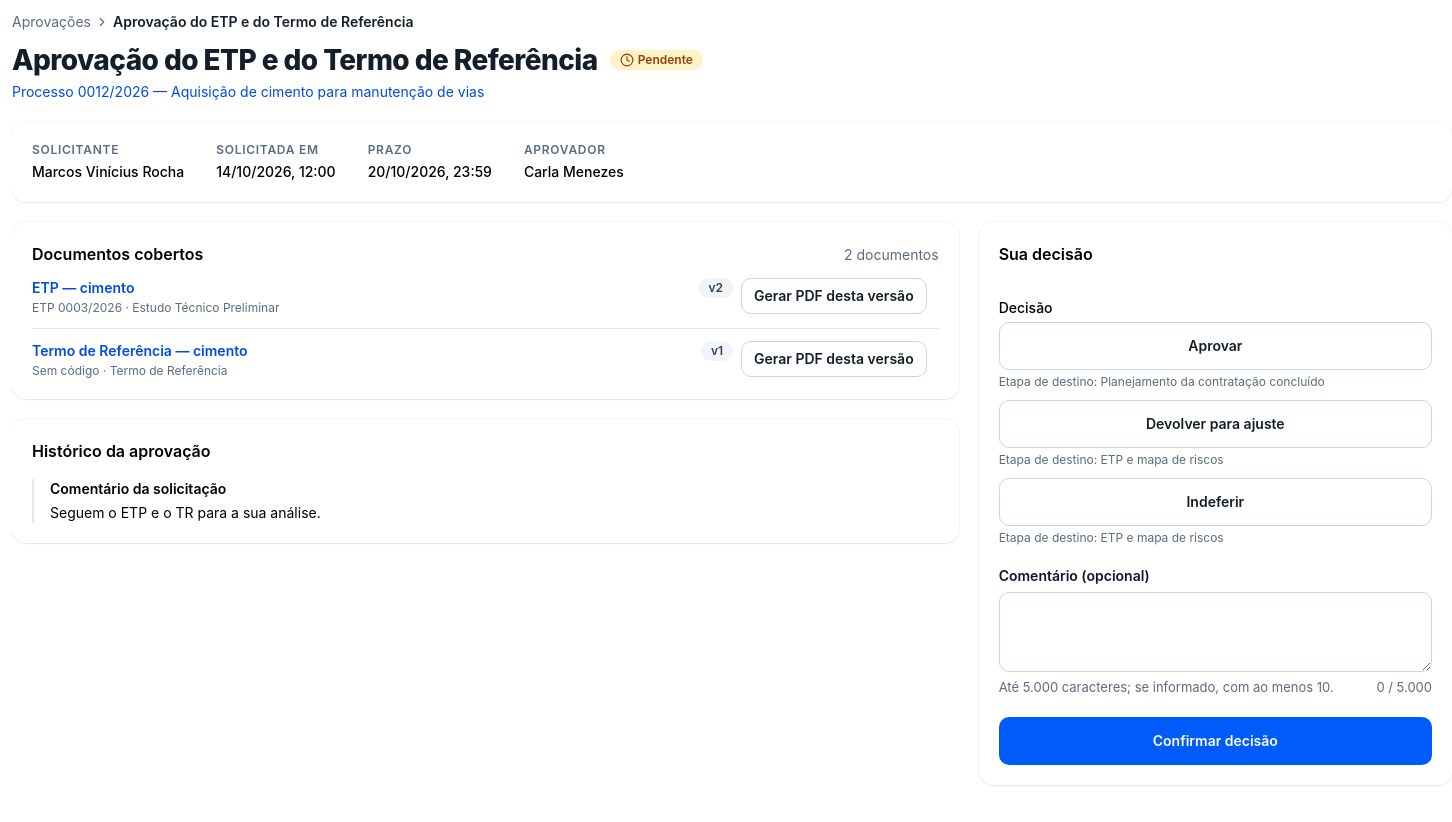
Test case: SCR-015 · Detalhe da aprovação (US-052) › [Sucesso] aprovar: envia o APV-03 com If-Match e Idempotency-Key, avisa, invalida as consultas e volta ao processo
Click the button "Aprovar".
click(1215, 346)  # box [999,322,1432,370]
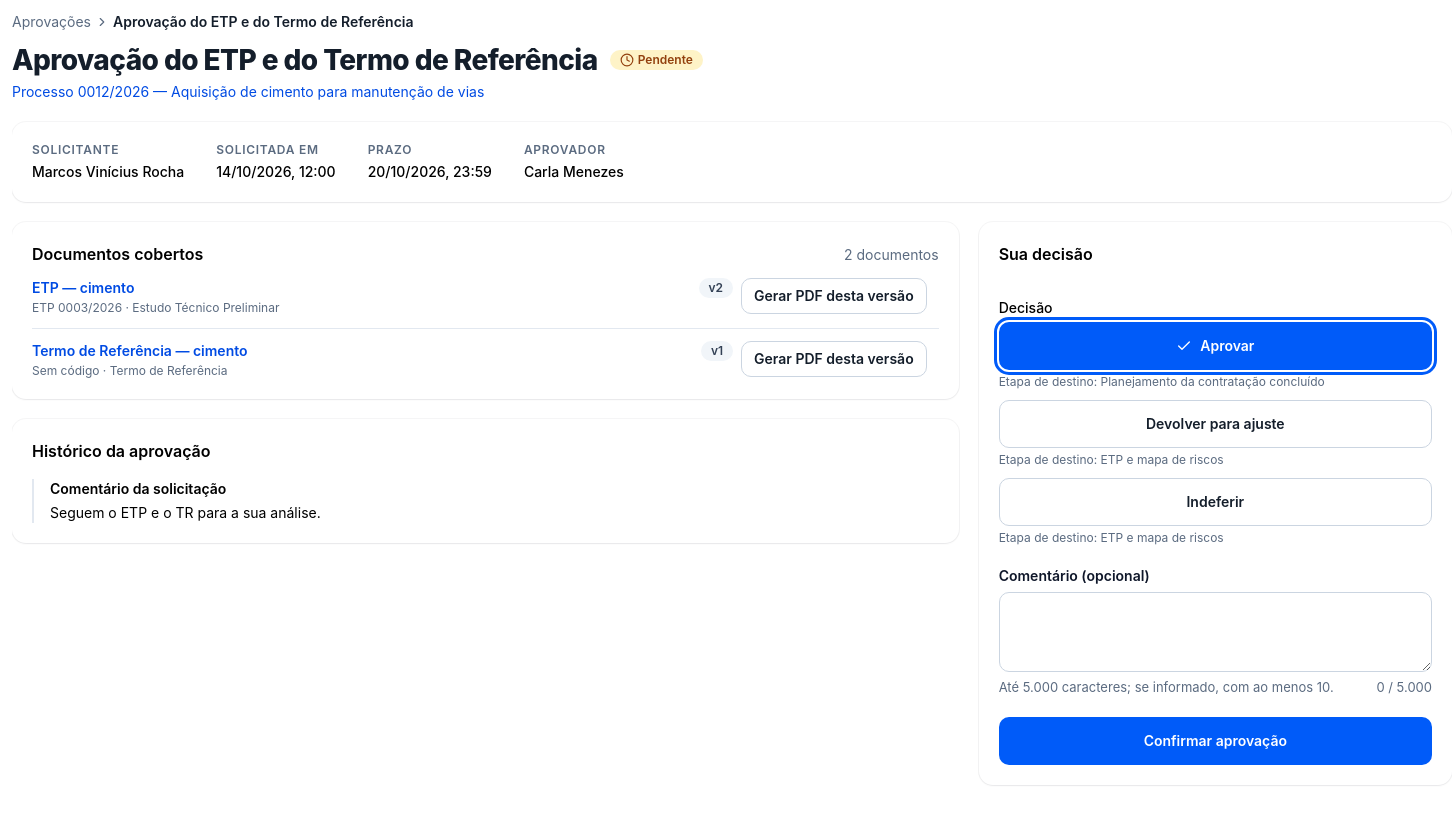
Check: the button "Aprovar" is pressed, box [999,322,1432,370]
Click the button "Confirmar aprovação".
click(1215, 741)  # box [999,717,1432,765]
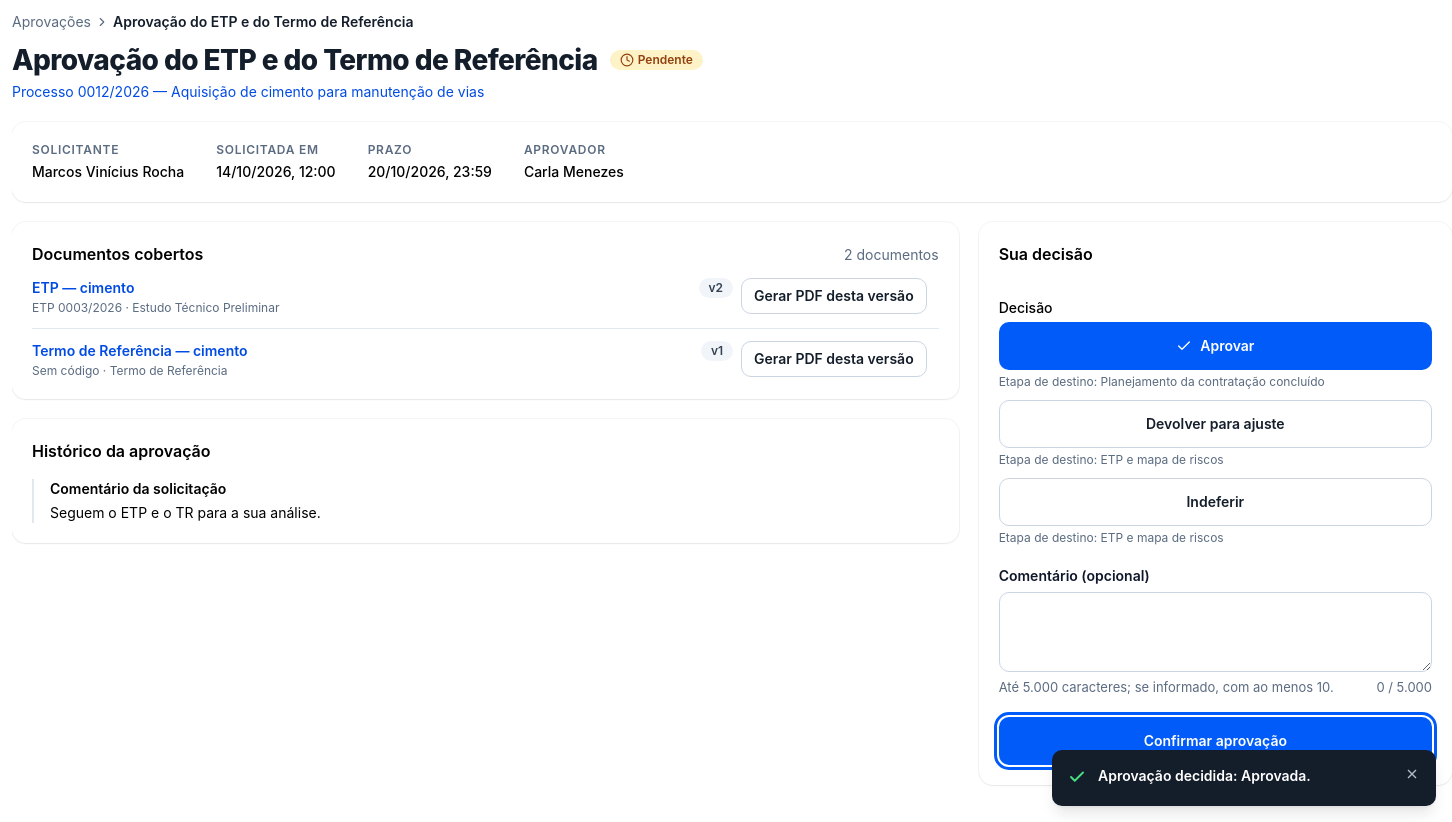
Check: the text "Aprovação decidida: Aprovada." is shown, box [1098,767,1311,784]
